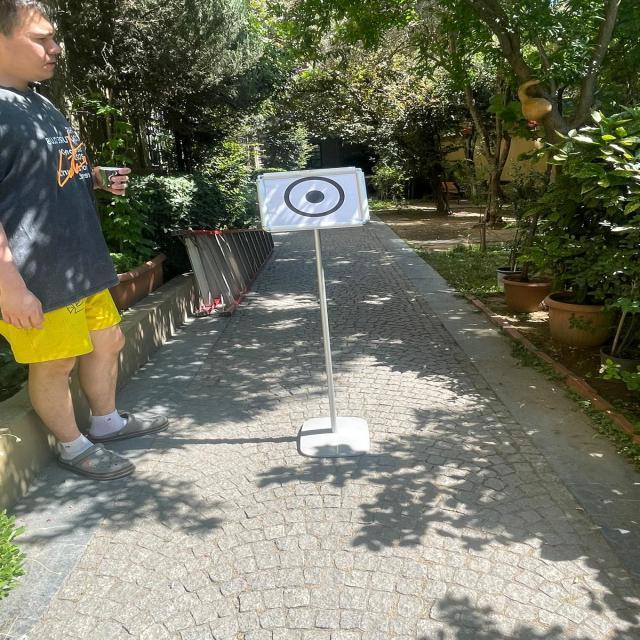Target: (239, 165, 394, 235)
inner: (299, 186, 332, 207)
